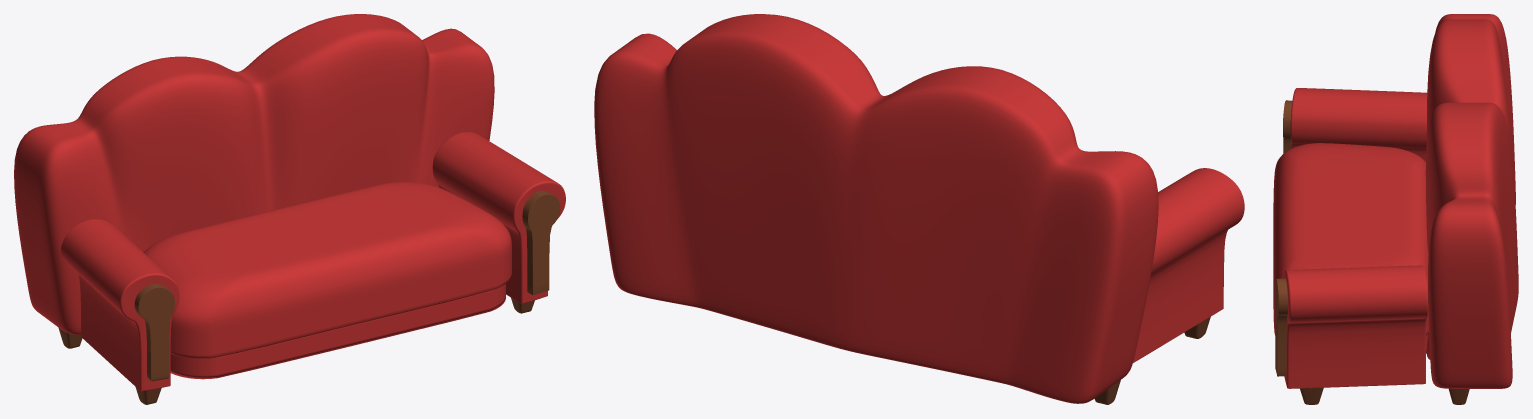
File: toon_sofa.glb
The picture shows the model from 3 angles, left to right: view 1: azimuth 30°, elevation 25°; view 2: azimuth 150°, elevation 25°; view 3: azimuth 270°, elevation 25°; orthographic projection. The views are drawn at different scales.
Parts seen in each view (by area): view 1: Object_4, Object_3, Object_2, Object_5; view 2: Object_4, Object_2, Object_5; view 3: Object_4, Object_2, Object_3, Object_5.
Part boxes in pixels (box(x1,y1,x2,y2)): Object_4: box(14, 14, 505, 379); Object_3: box(143, 182, 511, 358); Object_2: box(61, 132, 565, 391); Object_5: box(58, 190, 560, 404); Object_4: box(594, 14, 1158, 403); Object_2: box(1133, 168, 1244, 362); Object_5: box(1094, 256, 1224, 404); Object_4: box(1425, 14, 1518, 388); Object_2: box(1283, 88, 1427, 388); Object_3: box(1273, 143, 1428, 335); Object_5: box(1274, 100, 1469, 404).
Bounding box in the file's own units: 6.77 × 3.62 × 3.32.
